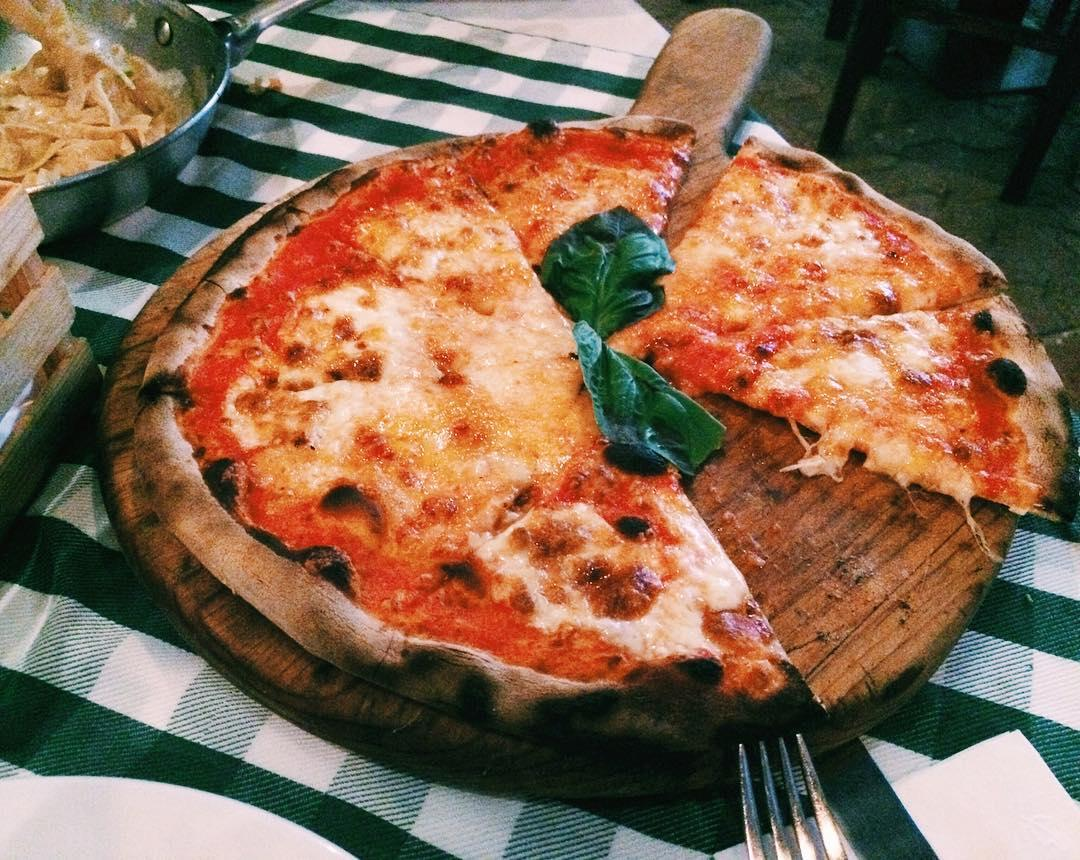Basil: (567, 322, 730, 482), (538, 210, 669, 340)
Pizza: (145, 131, 1080, 740)
